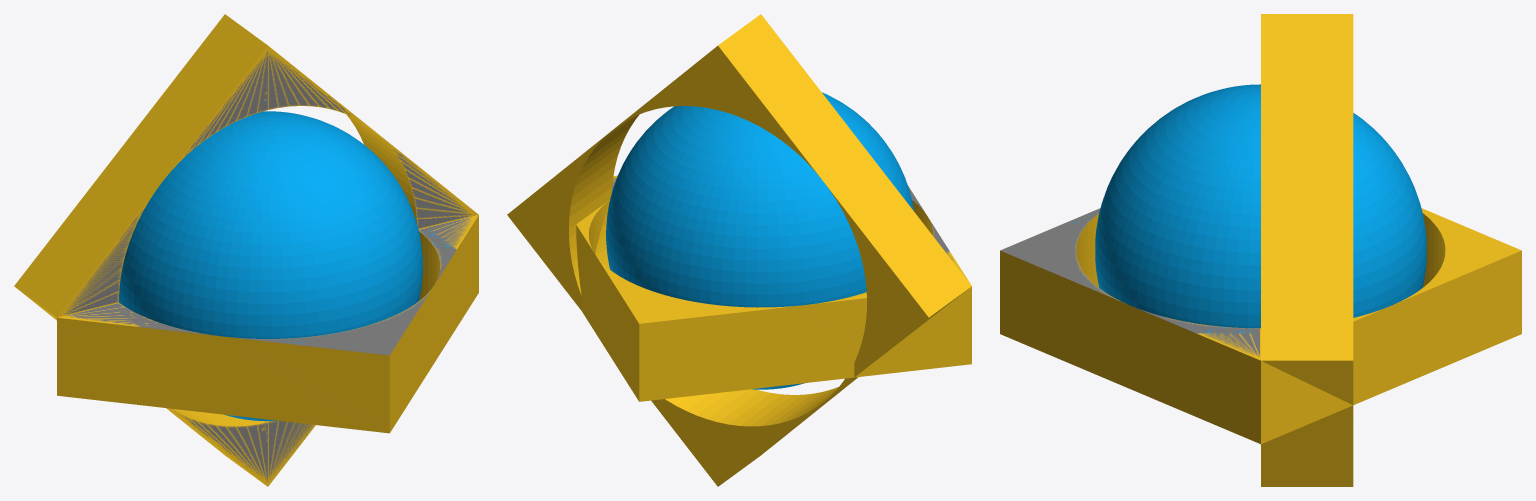
File: cb_internal.glb
3 renders of one model, left to right at view 1: azimuth 30°, elevation 25°; view 2: azimuth 150°, elevation 25°; view 3: azimuth 270°, elevation 25°, orthographic. The views are drawn at different scales.
Parts seen in each view (by area): view 1: node_id3; view 2: node_id3; view 3: node_id3.
Part boxes in pixels (x1,y1,x2,y2): node_id3: (14, 14, 478, 486); node_id3: (507, 14, 971, 486); node_id3: (1000, 14, 1521, 486).
Bounding box in the file's own units: 0.512 × 0.512 × 0.512.
Materials: 1 (1 with a texture image).
